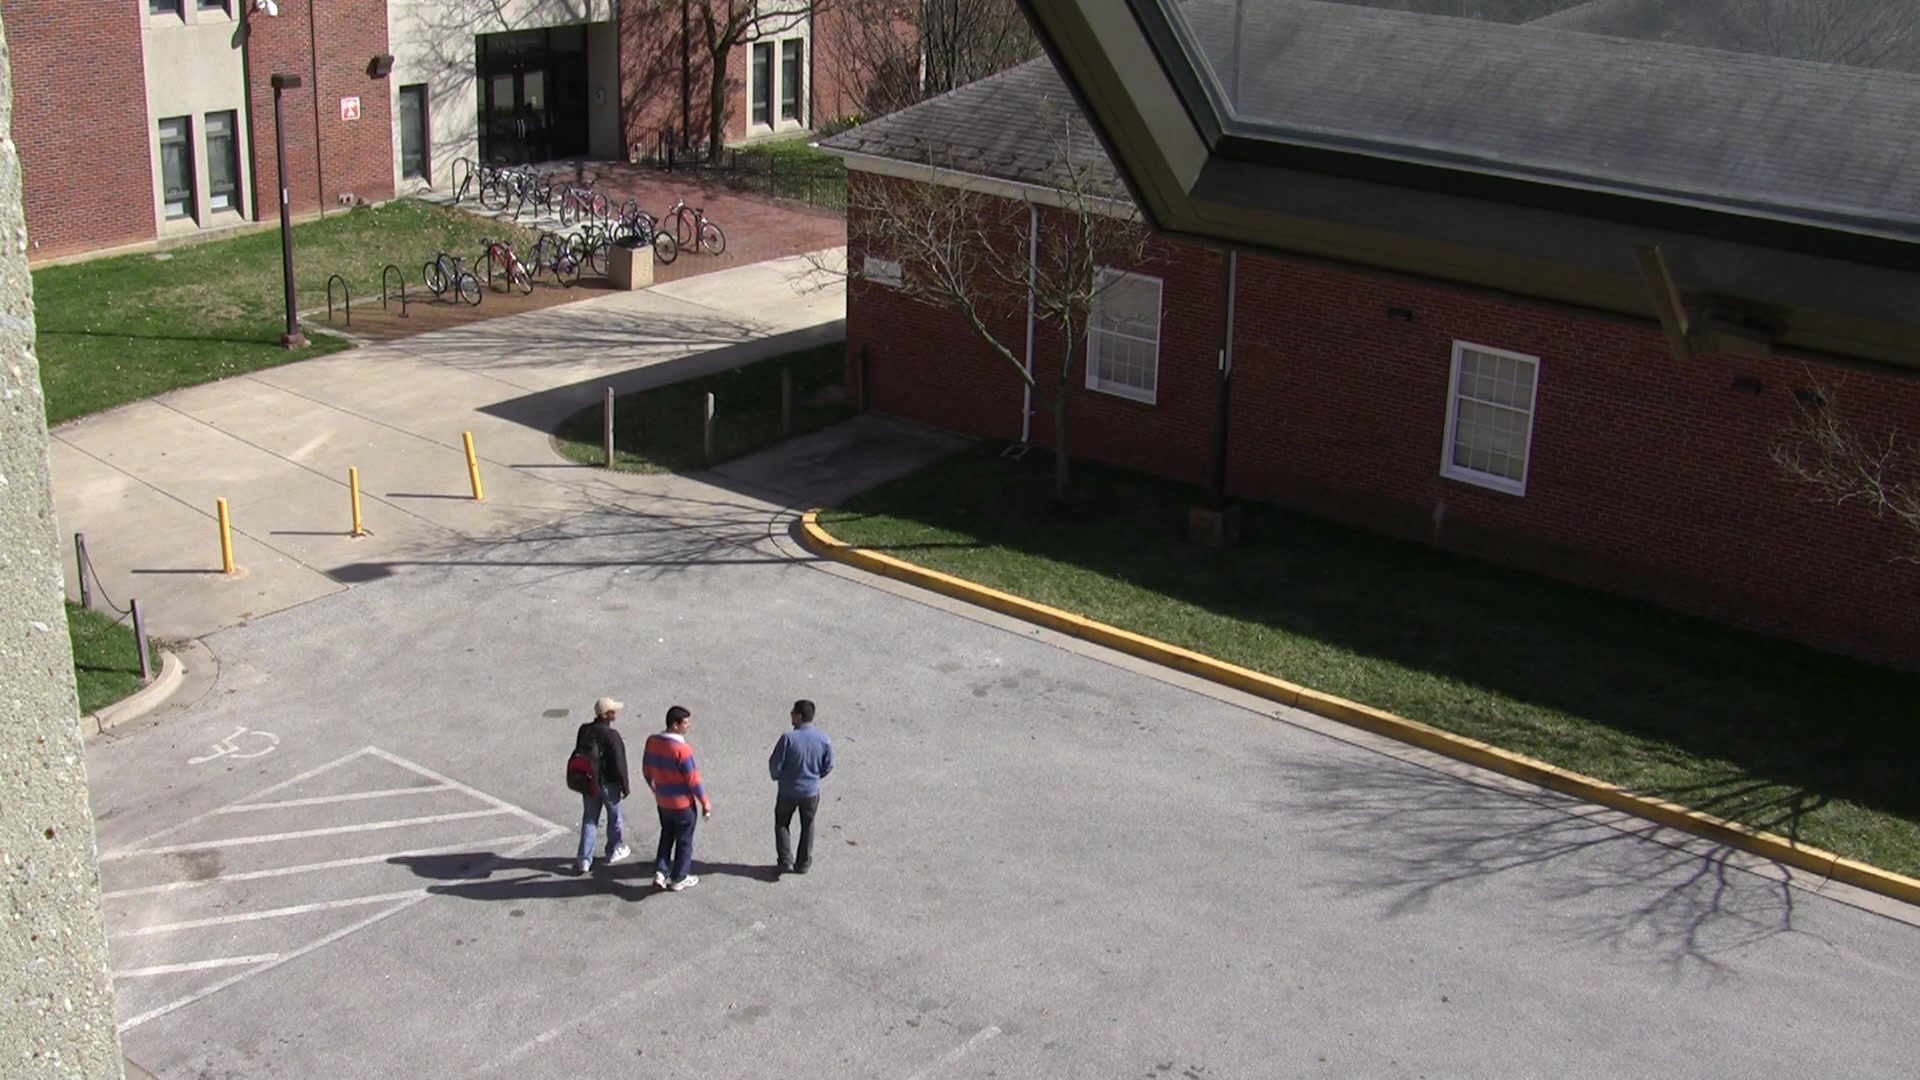person: (627, 699, 727, 915), (544, 680, 640, 882), (754, 690, 846, 895)
